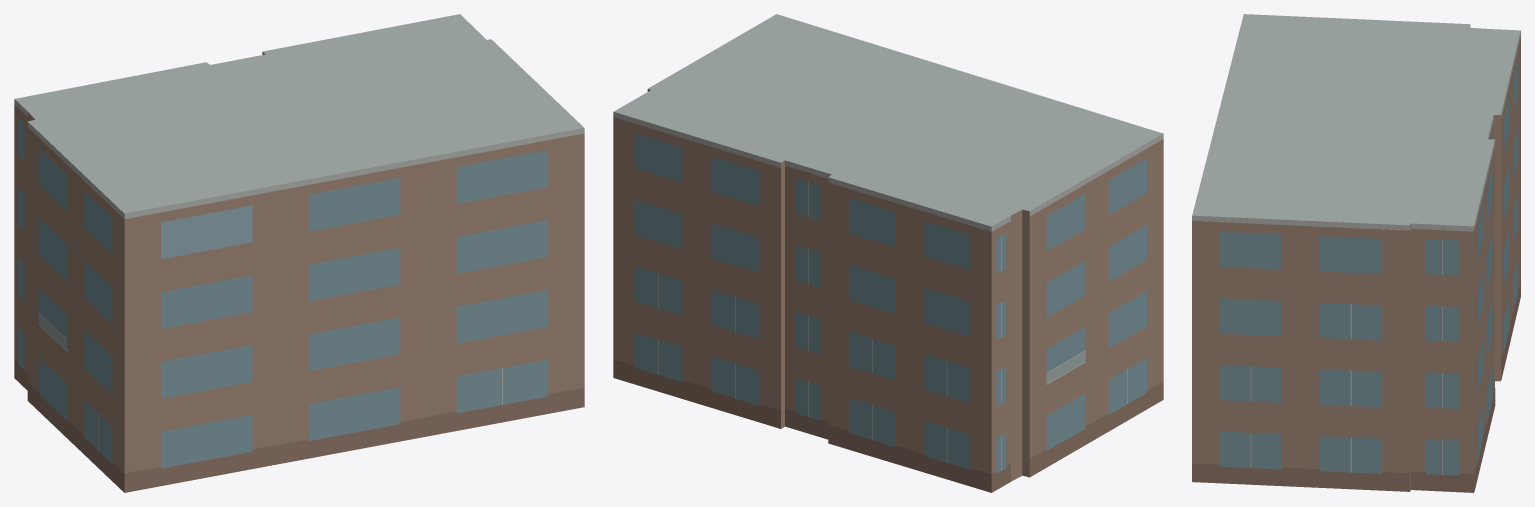
Rendered from survey-upis-32662554.glb.
The picture shows the model from 3 angles, left to right: view 1: azimuth 30°, elevation 25°; view 2: azimuth 150°, elevation 25°; view 3: azimuth 270°, elevation 25°; orthographic projection. The views are drawn at different scales.
Visible parts, largest first — view 1: survey-upis-32662554.tmp; view 2: survey-upis-32662554.tmp; view 3: survey-upis-32662554.tmp.
Boxes of the visible parts, left/top/right/bottom form: survey-upis-32662554.tmp: left=14, top=14, right=584, bottom=492; survey-upis-32662554.tmp: left=613, top=14, right=1163, bottom=492; survey-upis-32662554.tmp: left=1192, top=14, right=1520, bottom=492.
Bounding box in the file's own units: 20.88 × 12.2 × 13.65.
